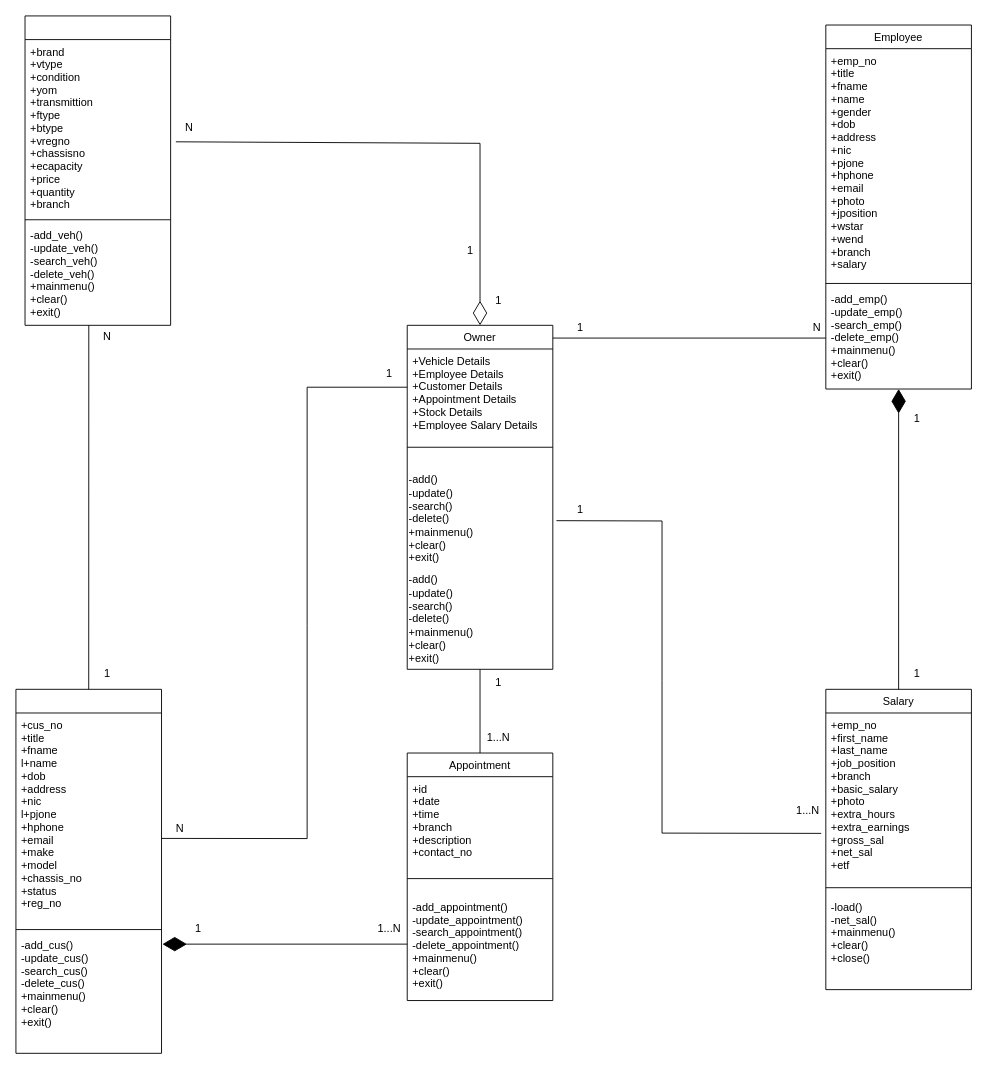
This 987x1069 diagram has some shape labels left out. The box of each missing label's shape, as (x1, y1, x2, y2) in pixels:
Customer: (15, 688, 162, 1053)
Vehicle: (24, 15, 171, 325)
